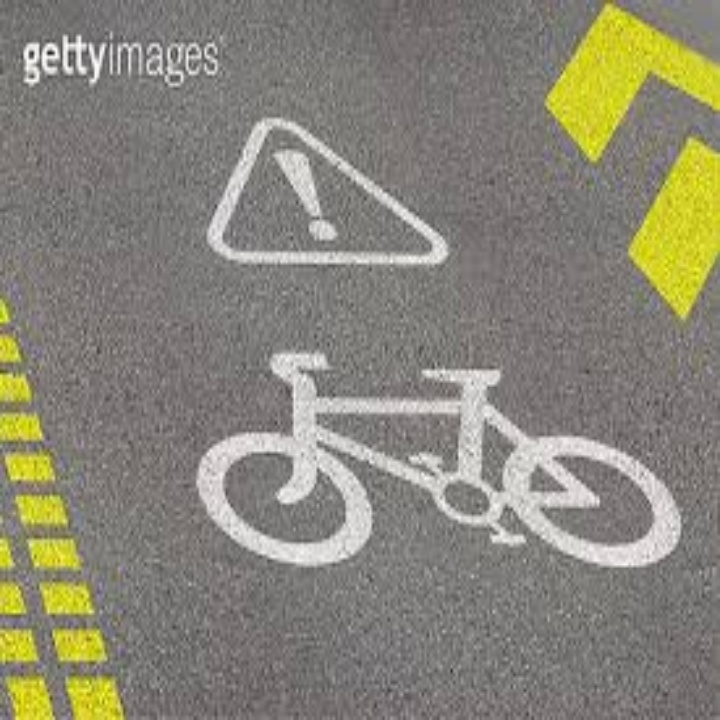bicycle: (207, 243, 680, 716)
